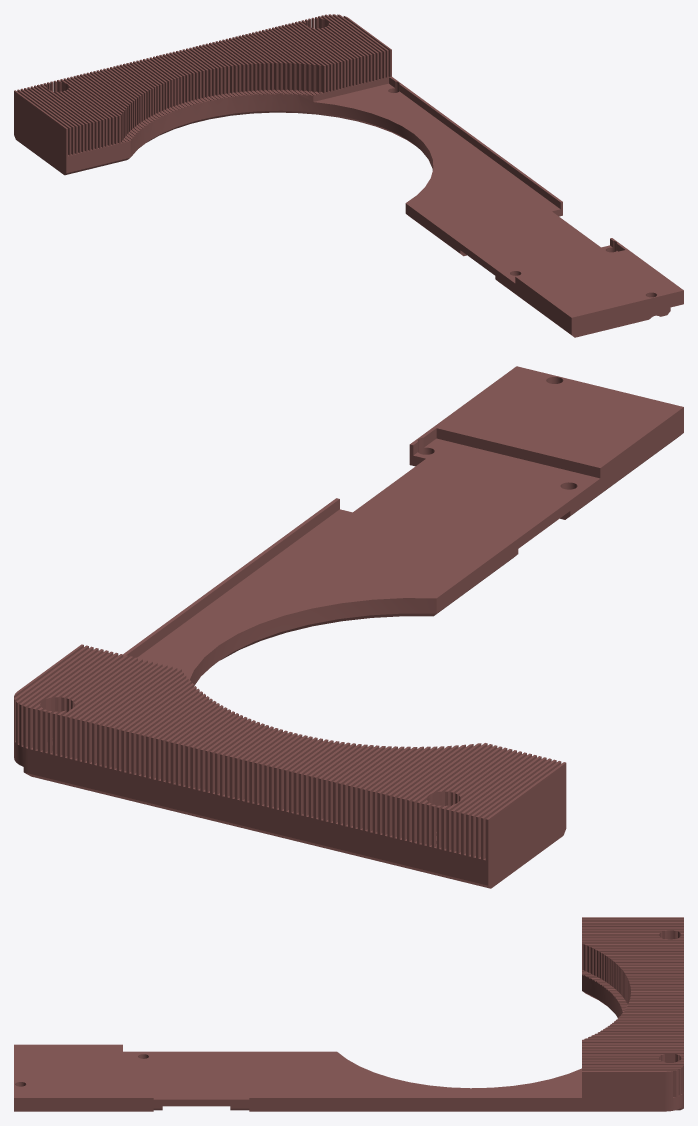
Rendered from copper_plate_1.dae.
3 views of the same model, one above another, from view 1: azimuth 30°, elevation 25°; view 2: azimuth 150°, elevation 25°; view 3: azimuth 270°, elevation 25° (orthographic). The views are drawn at different scales.
Visible parts, largest first — view 1: copper_plate_1; view 2: copper_plate_1; view 3: copper_plate_1.
Part boxes in pixels (x1=…): copper_plate_1: x1=14, y1=14, x2=683, y2=337; copper_plate_1: x1=14, y1=366, x2=683, y2=888; copper_plate_1: x1=14, y1=917, x2=683, y2=1111.
Size of the model in its own units: 0.9845 by 0.138 by 1.81.
